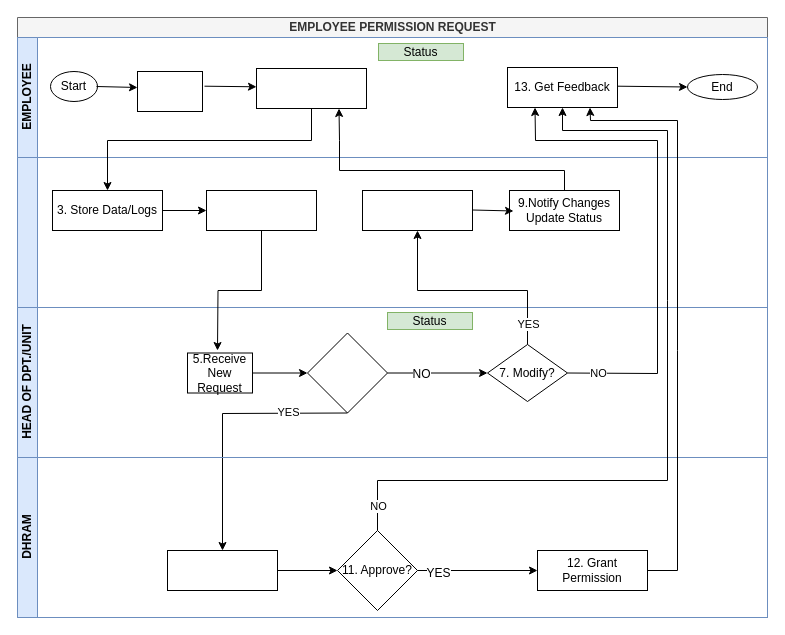
Some shapes in this 785 by 635 pixel diagram are drawn without their labels. Each missing label, with the box of its shape:
1. Login: (136, 70, 202, 112)
10. Receive Request: (166, 550, 278, 590)
2. Submit/Modify Request: (256, 68, 366, 108)
4.Notify Director Update Status: (206, 190, 316, 230)
6. Approve?: (306, 332, 388, 413)
8. Update Data/Logs: (362, 190, 472, 230)
WaJiBiKa Engine: (16, 156, 768, 308)
